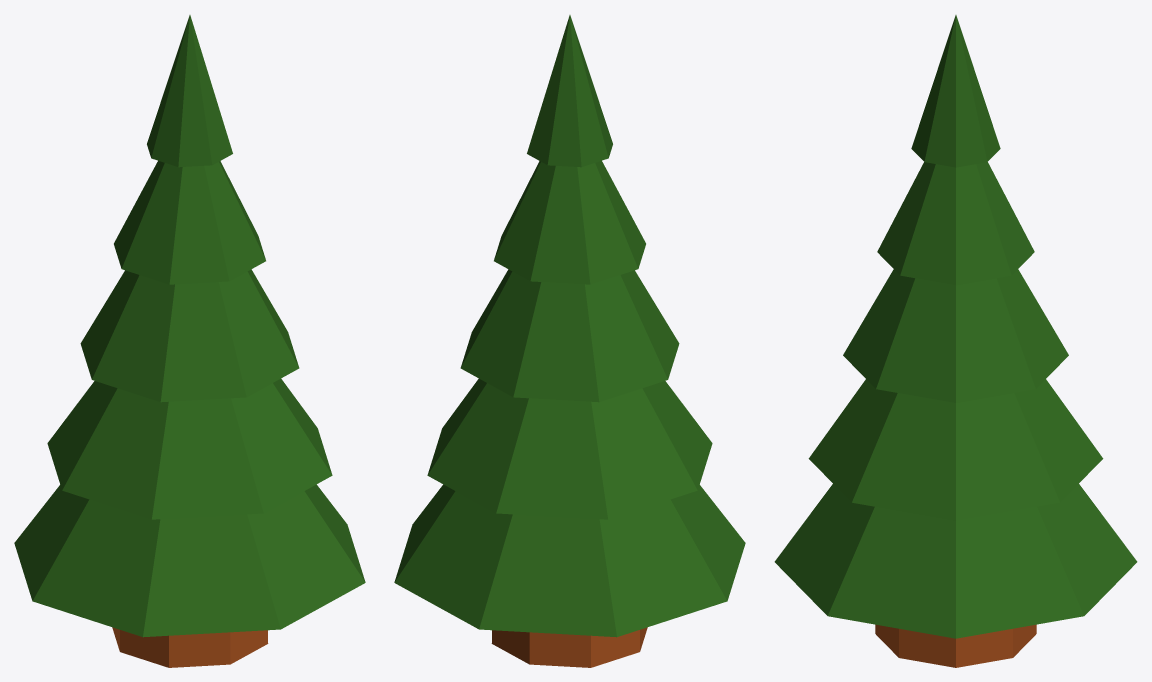
The model's file is SmallPine.fbx.
3 renders of one model, left to right at view 1: azimuth 30°, elevation 25°; view 2: azimuth 150°, elevation 25°; view 3: azimuth 270°, elevation 25°, orthographic.
Visible parts, largest first — view 1: Small treee; view 2: Small treee; view 3: Small treee.
Part boxes in pixels (x1,y1,x2,y2): Small treee: (14, 15, 365, 667); Small treee: (394, 15, 745, 667); Small treee: (774, 15, 1137, 667).
Size of the model in its own units: 4.19 by 7.89 by 4.19.
